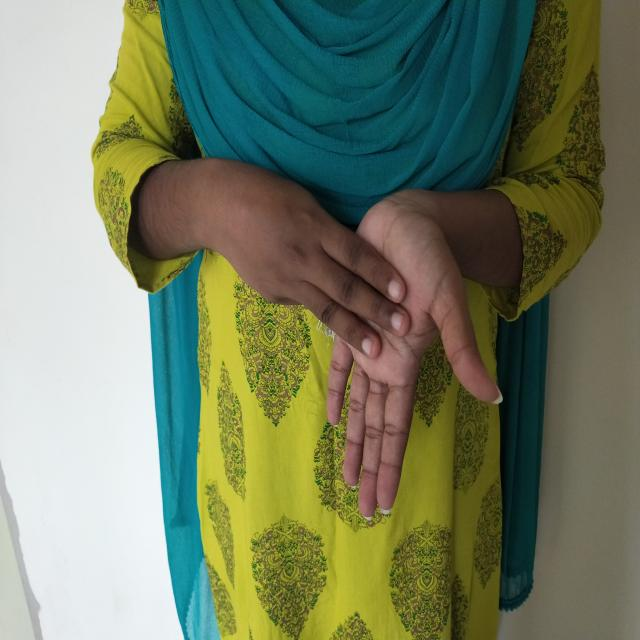M: (210, 147, 517, 531)
